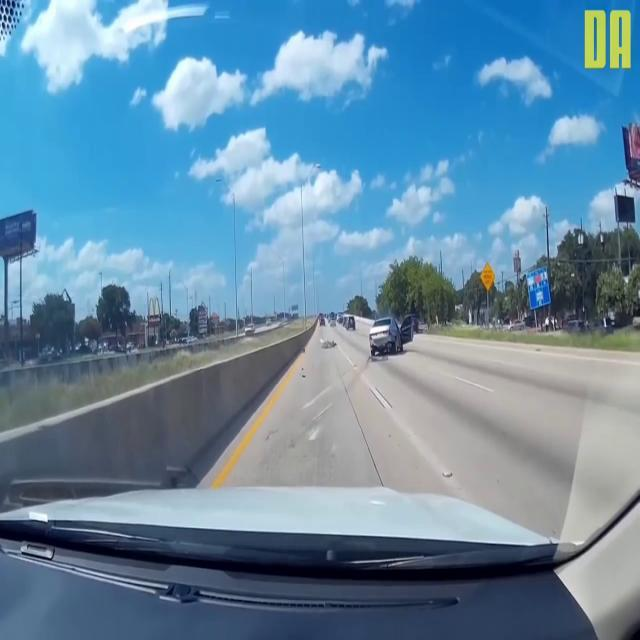single accident: (330, 290, 433, 388)
